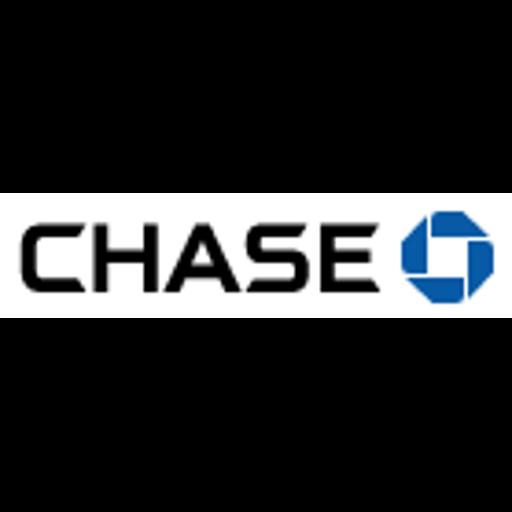Chase Personal Banking: (0, 193, 512, 318)
